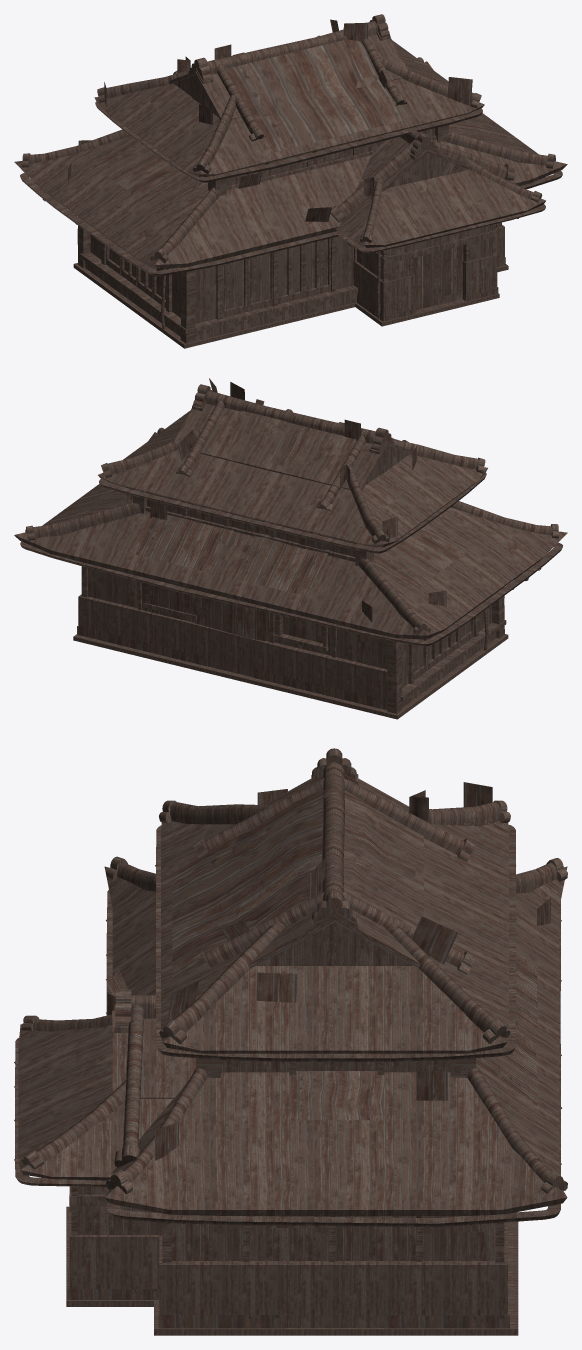
Rendered from woodHouse.fbx.
3 renders of one model, top to bottom at view 1: azimuth 30°, elevation 25°; view 2: azimuth 150°, elevation 25°; view 3: azimuth 270°, elevation 25°, orthographic. The views are drawn at different scales.
Parts seen in each view (by area): view 1: MainHouse_01_geo; view 2: MainHouse_01_geo; view 3: MainHouse_01_geo.
Boxes of the visible parts, bbox=[...] form: MainHouse_01_geo: bbox=[14, 14, 567, 348]; MainHouse_01_geo: bbox=[14, 378, 567, 719]; MainHouse_01_geo: bbox=[14, 748, 567, 1335].
Bounding box in the file's own units: 1520 × 829 × 1071.
